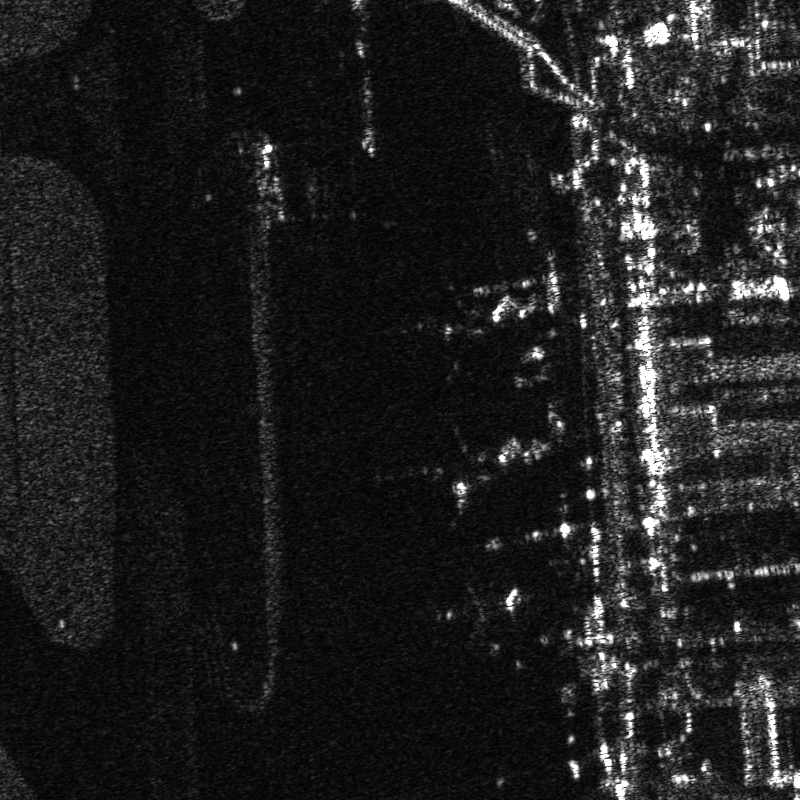ARJ21: (412, 411, 573, 520)
other: (443, 241, 575, 366), (434, 581, 520, 650)
